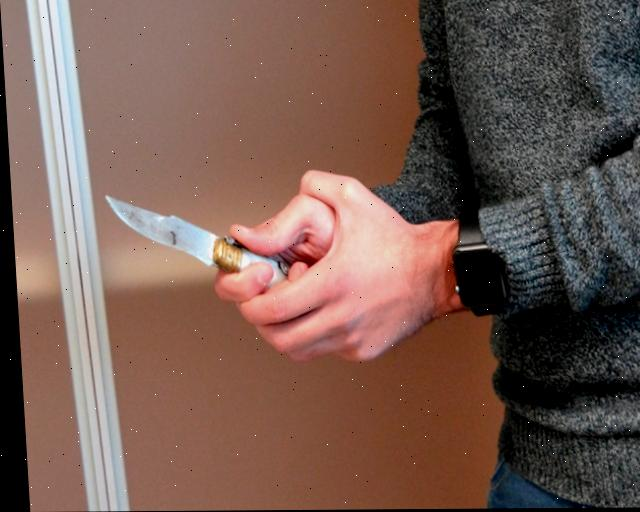pocket-knife: (100, 193, 304, 307)
